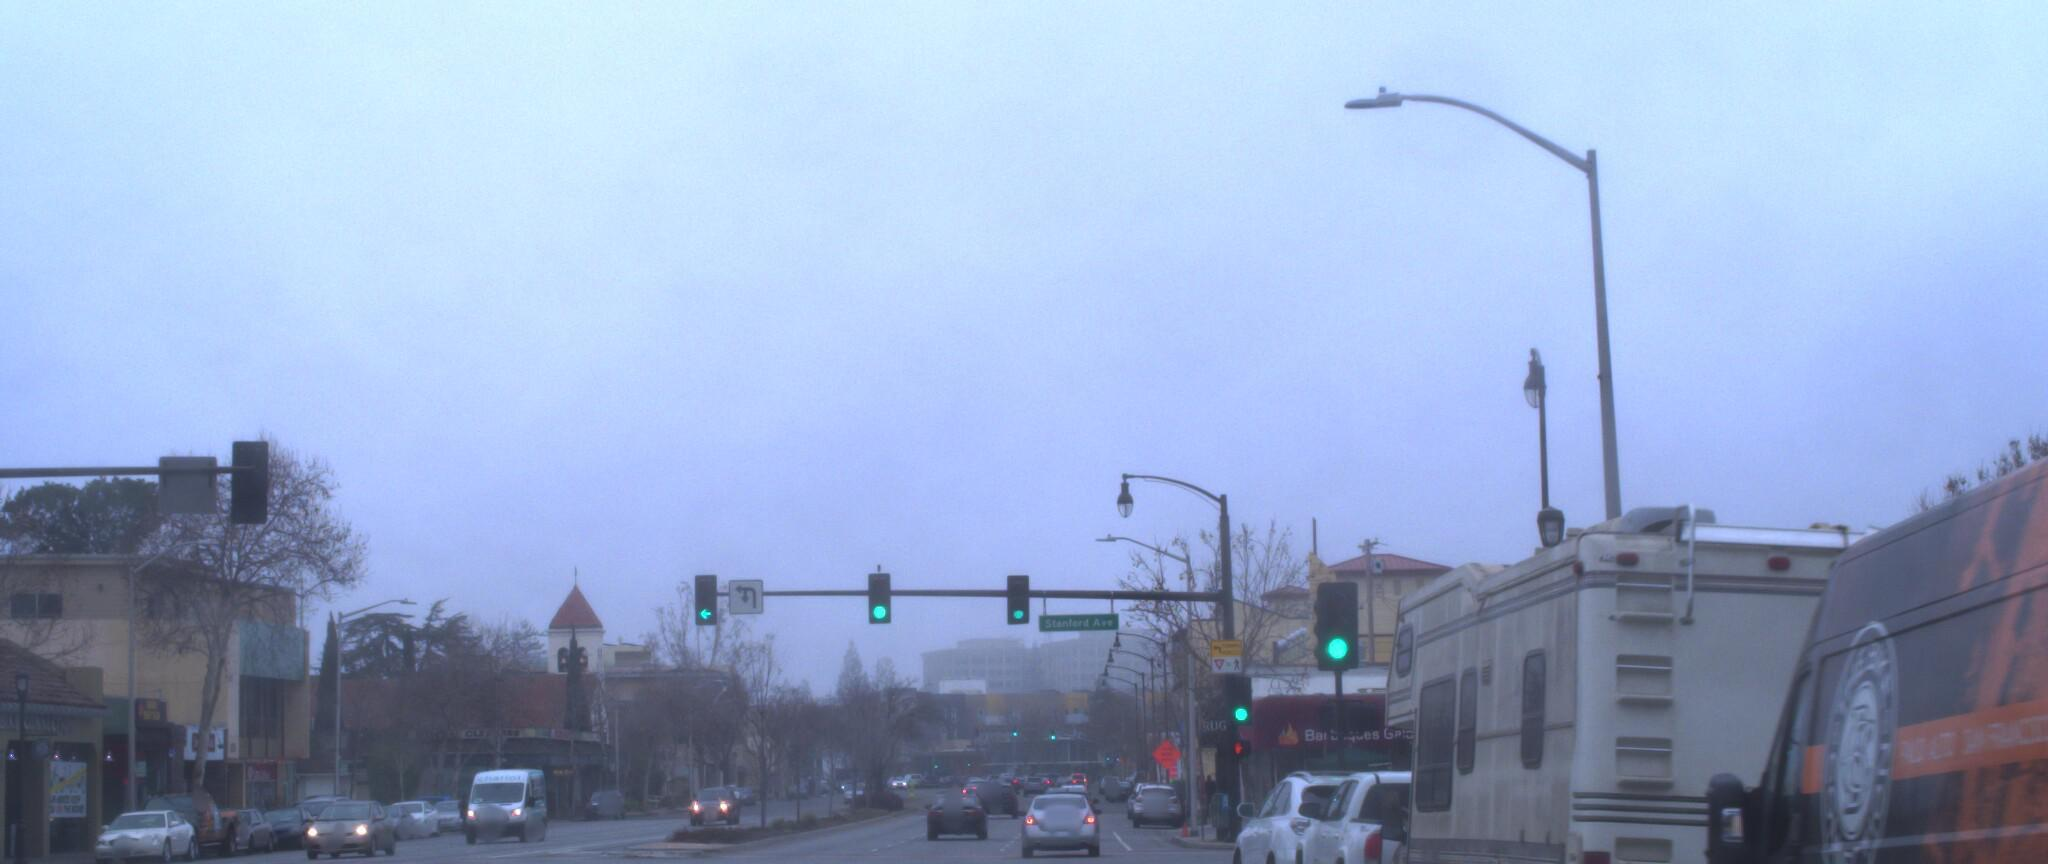car: (1638, 399, 2048, 864), (1283, 764, 1569, 864), (1220, 761, 1465, 864), (1003, 780, 1102, 863), (78, 800, 200, 864), (289, 791, 398, 857)
other_vehicle: (1347, 439, 2048, 864)
